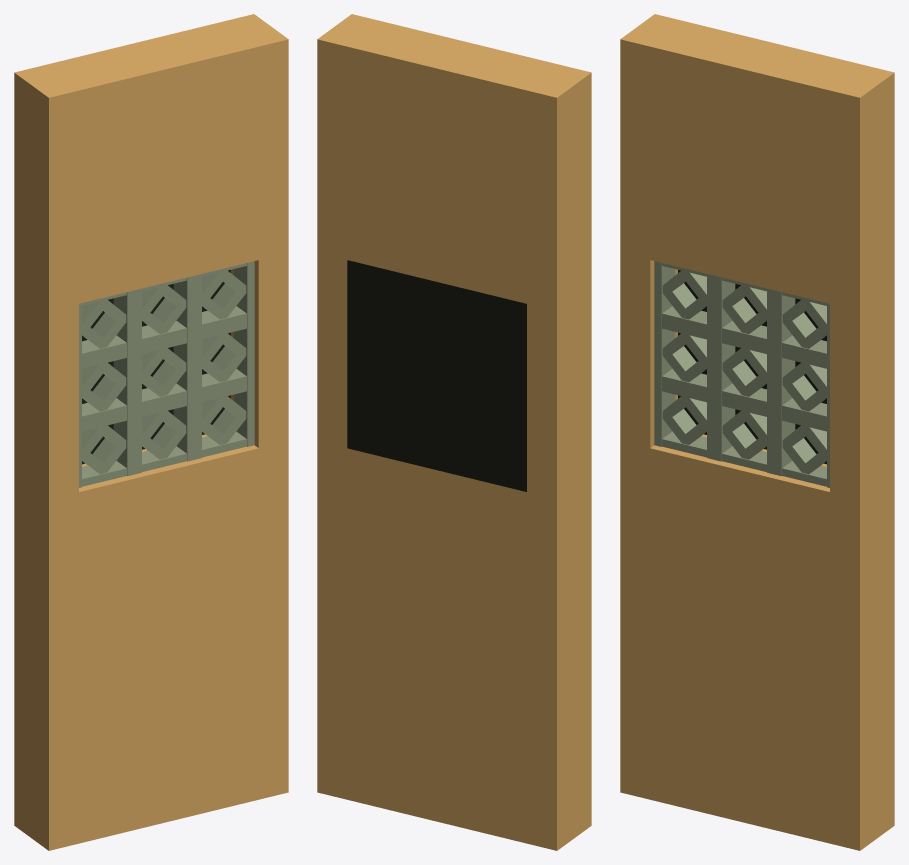
Rendered from SM_Wall_BreezeWindow_01.fbx.
The picture shows the model from 3 angles, left to right: view 1: azimuth 30°, elevation 25°; view 2: azimuth 150°, elevation 25°; view 3: azimuth 330°, elevation 25°; orthographic projection.
Parts seen in each view (by area): view 1: SM_Wall_BreezeWindow_01; view 2: SM_Wall_BreezeWindow_01; view 3: SM_Wall_BreezeWindow_01.
Boxes of the visible parts, <box> form: SM_Wall_BreezeWindow_01: <box>14,14,288,850</box>; SM_Wall_BreezeWindow_01: <box>317,14,591,850</box>; SM_Wall_BreezeWindow_01: <box>620,14,894,850</box>.
Bounding box in the file's own units: 1 × 3 × 0.25.
1 material, 1 textured.
